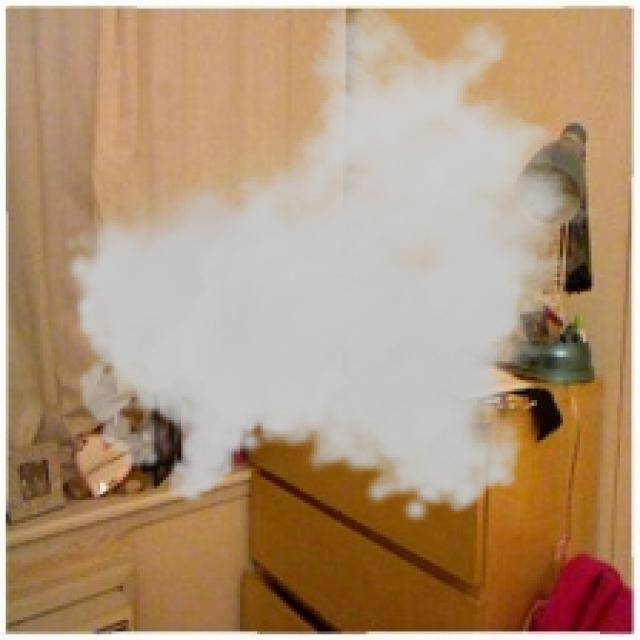Smoke: (62, 3, 618, 526)
